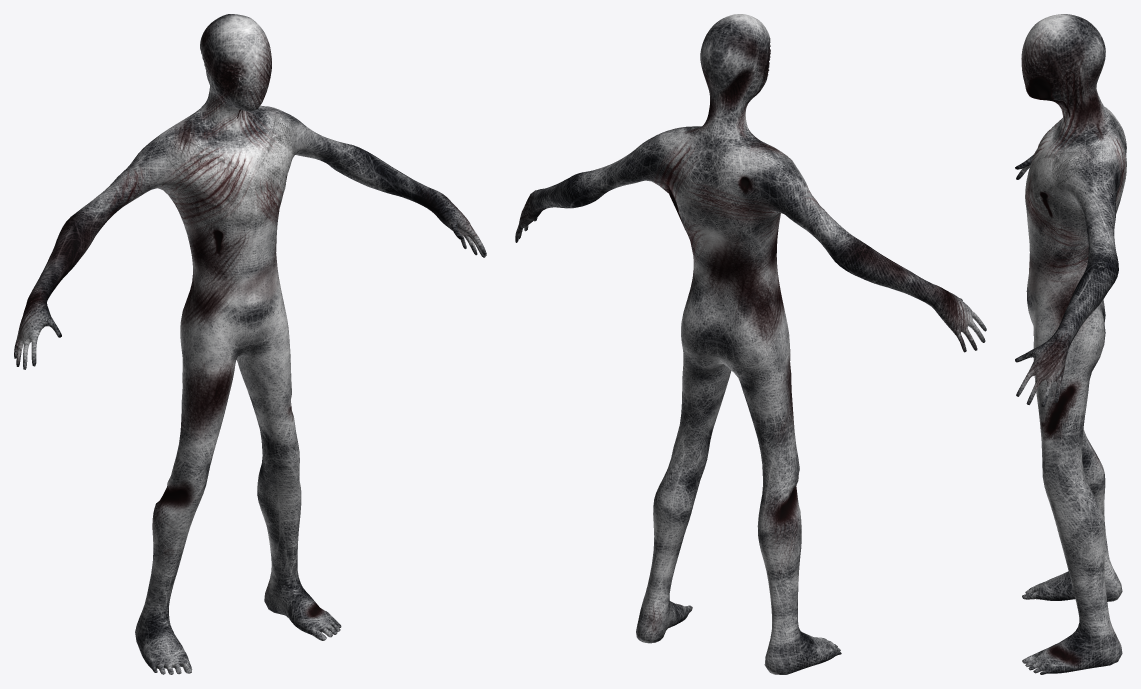
Rendered from zombie_creature_infected.glb.
The picture shows the model from 3 angles, left to right: view 1: azimuth 30°, elevation 25°; view 2: azimuth 150°, elevation 25°; view 3: azimuth 270°, elevation 25°; orthographic projection.
Parts seen in each view (by area): view 1: Nickz_humanMaleAverage; view 2: Nickz_humanMaleAverage; view 3: Nickz_humanMaleAverage.
Boxes of the visible parts, x1,y1,x2,y2 form: Nickz_humanMaleAverage: (14,14,486,674); Nickz_humanMaleAverage: (515,14,986,674); Nickz_humanMaleAverage: (1015,14,1126,674).
Size of the model in its own units: 1.38 by 1.79 by 0.2956.
Materials: 1 (1 with a texture image).
